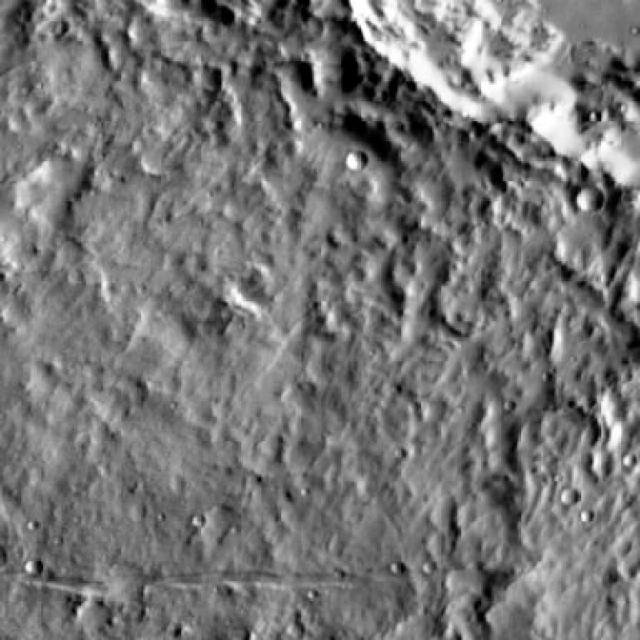crater: (541, 208, 604, 267), (533, 405, 590, 457), (442, 562, 483, 601), (468, 410, 510, 448), (65, 597, 102, 631), (224, 275, 259, 308), (87, 388, 121, 421), (443, 612, 482, 640), (575, 449, 603, 474), (568, 185, 594, 209), (252, 432, 276, 453), (338, 148, 359, 168), (549, 486, 568, 503), (279, 620, 298, 637), (22, 567, 38, 582)
